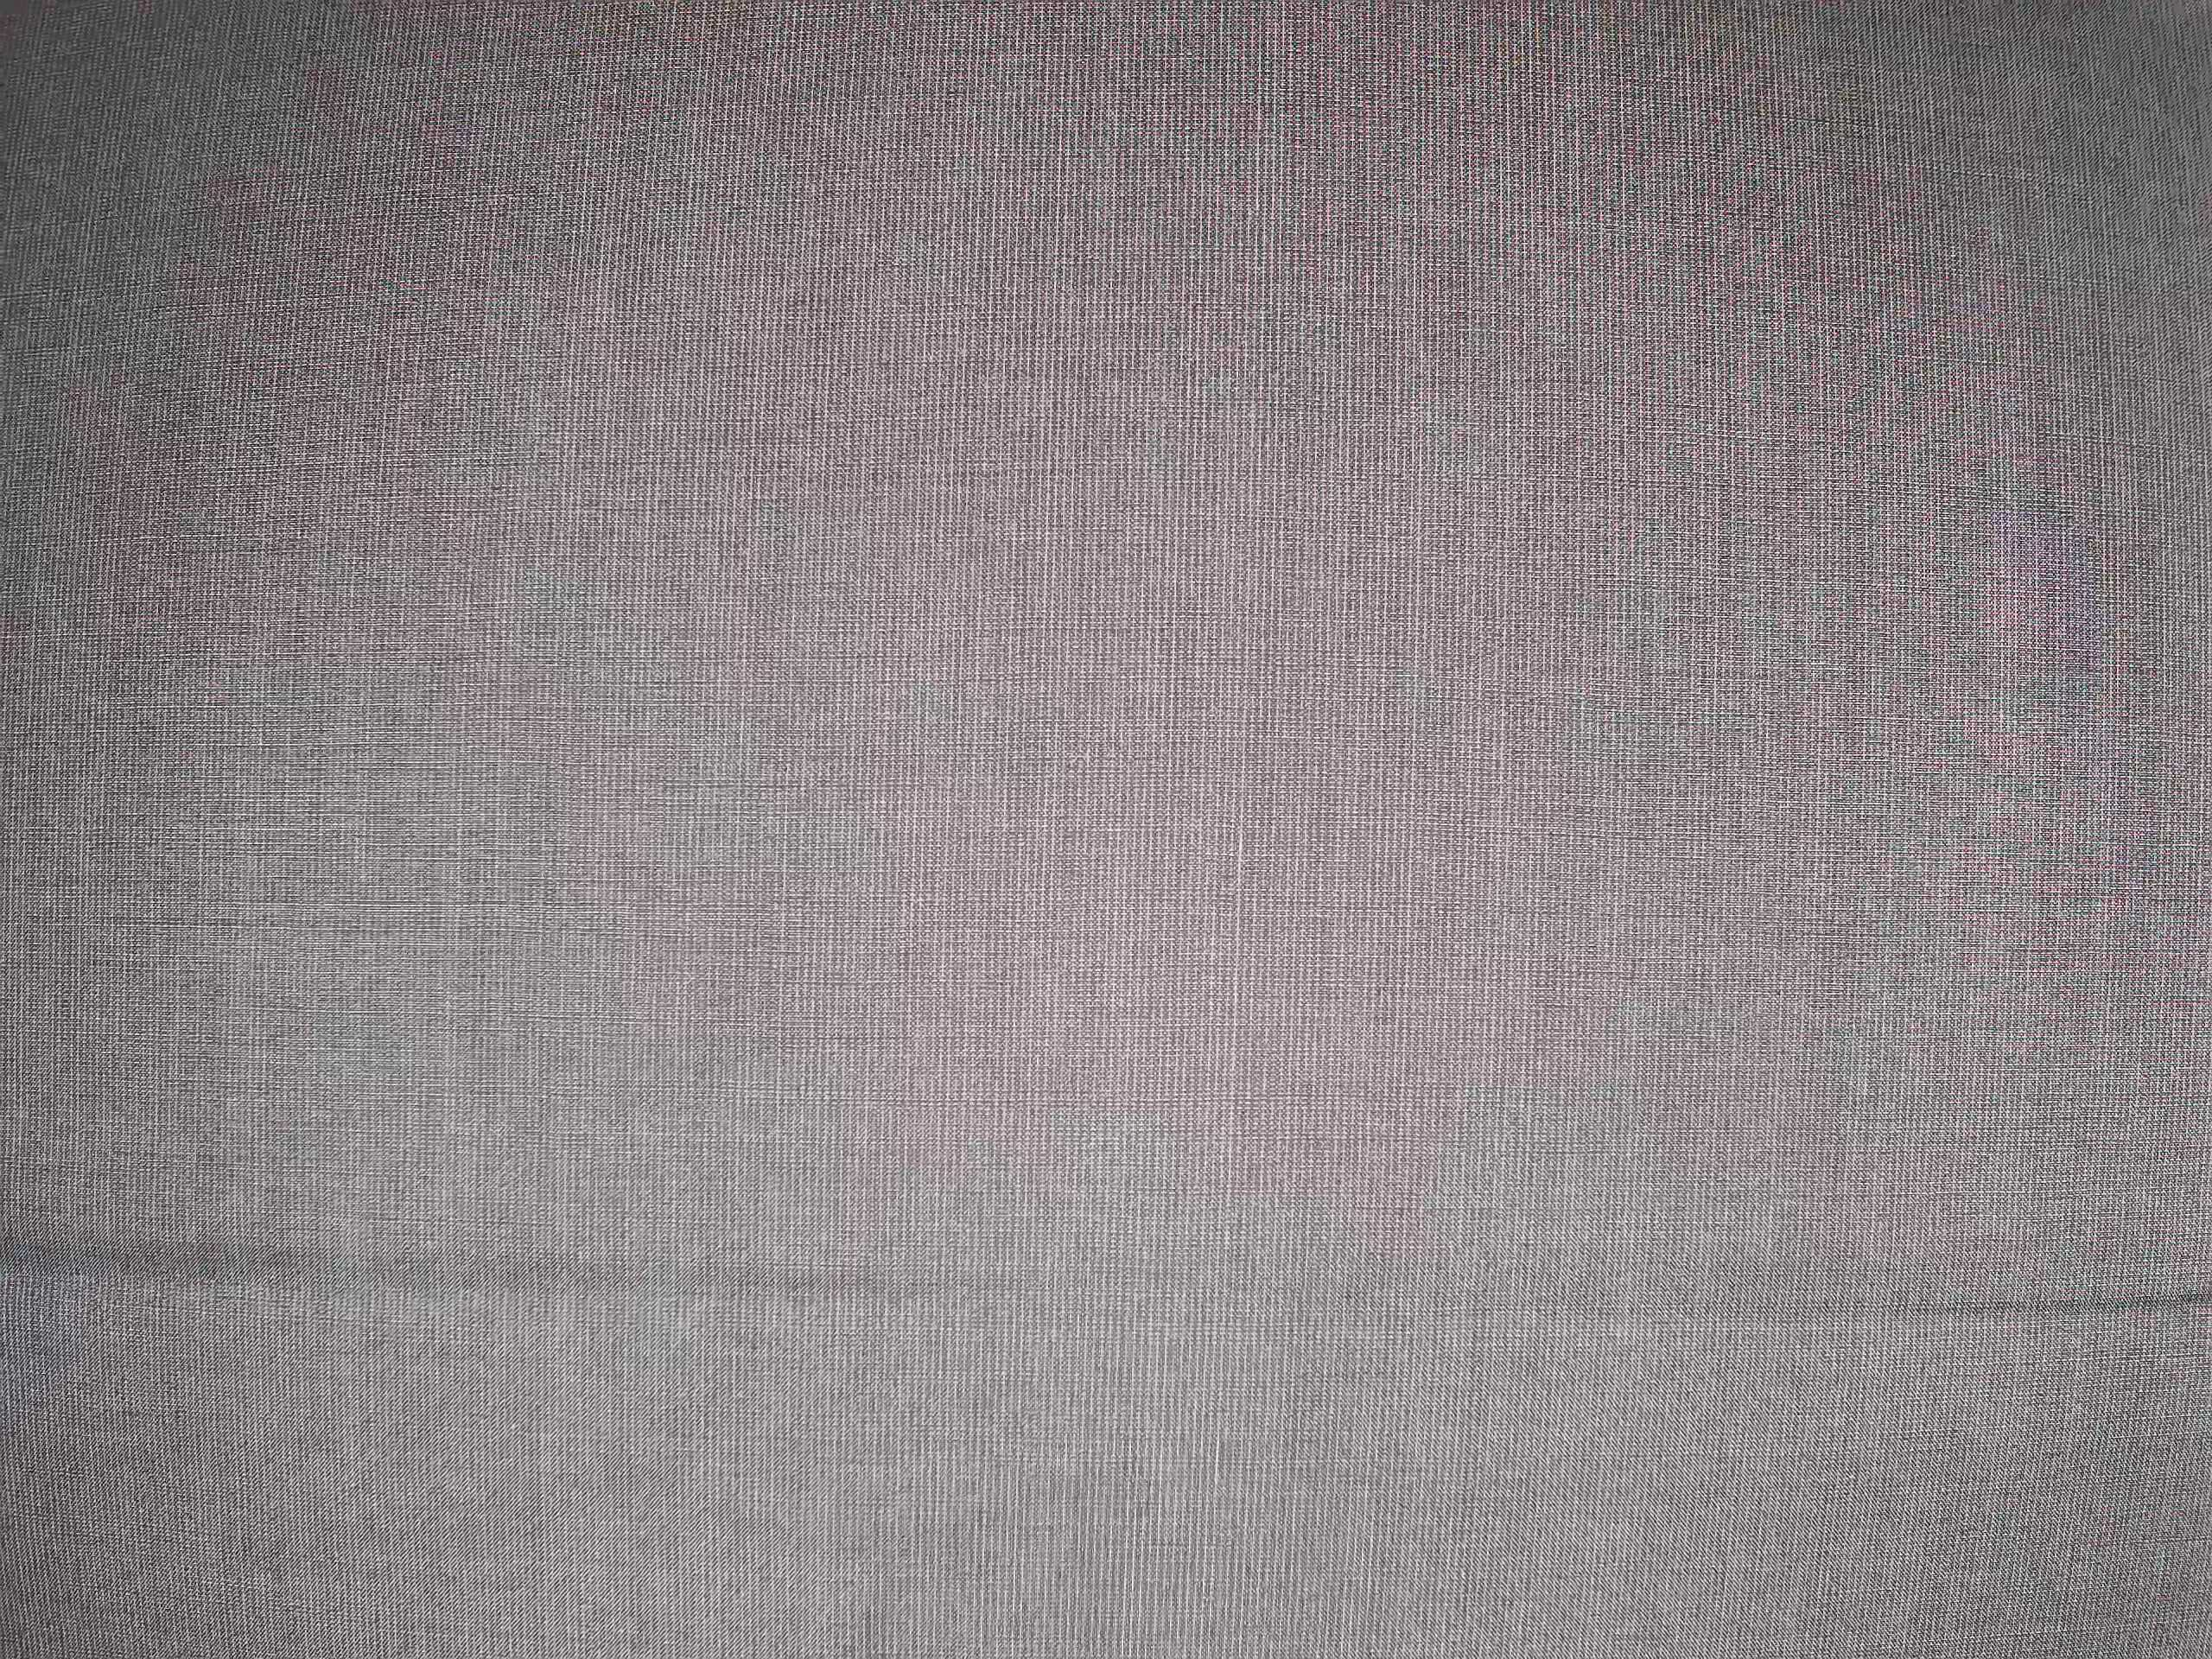others: (1211, 800, 1252, 1274)
